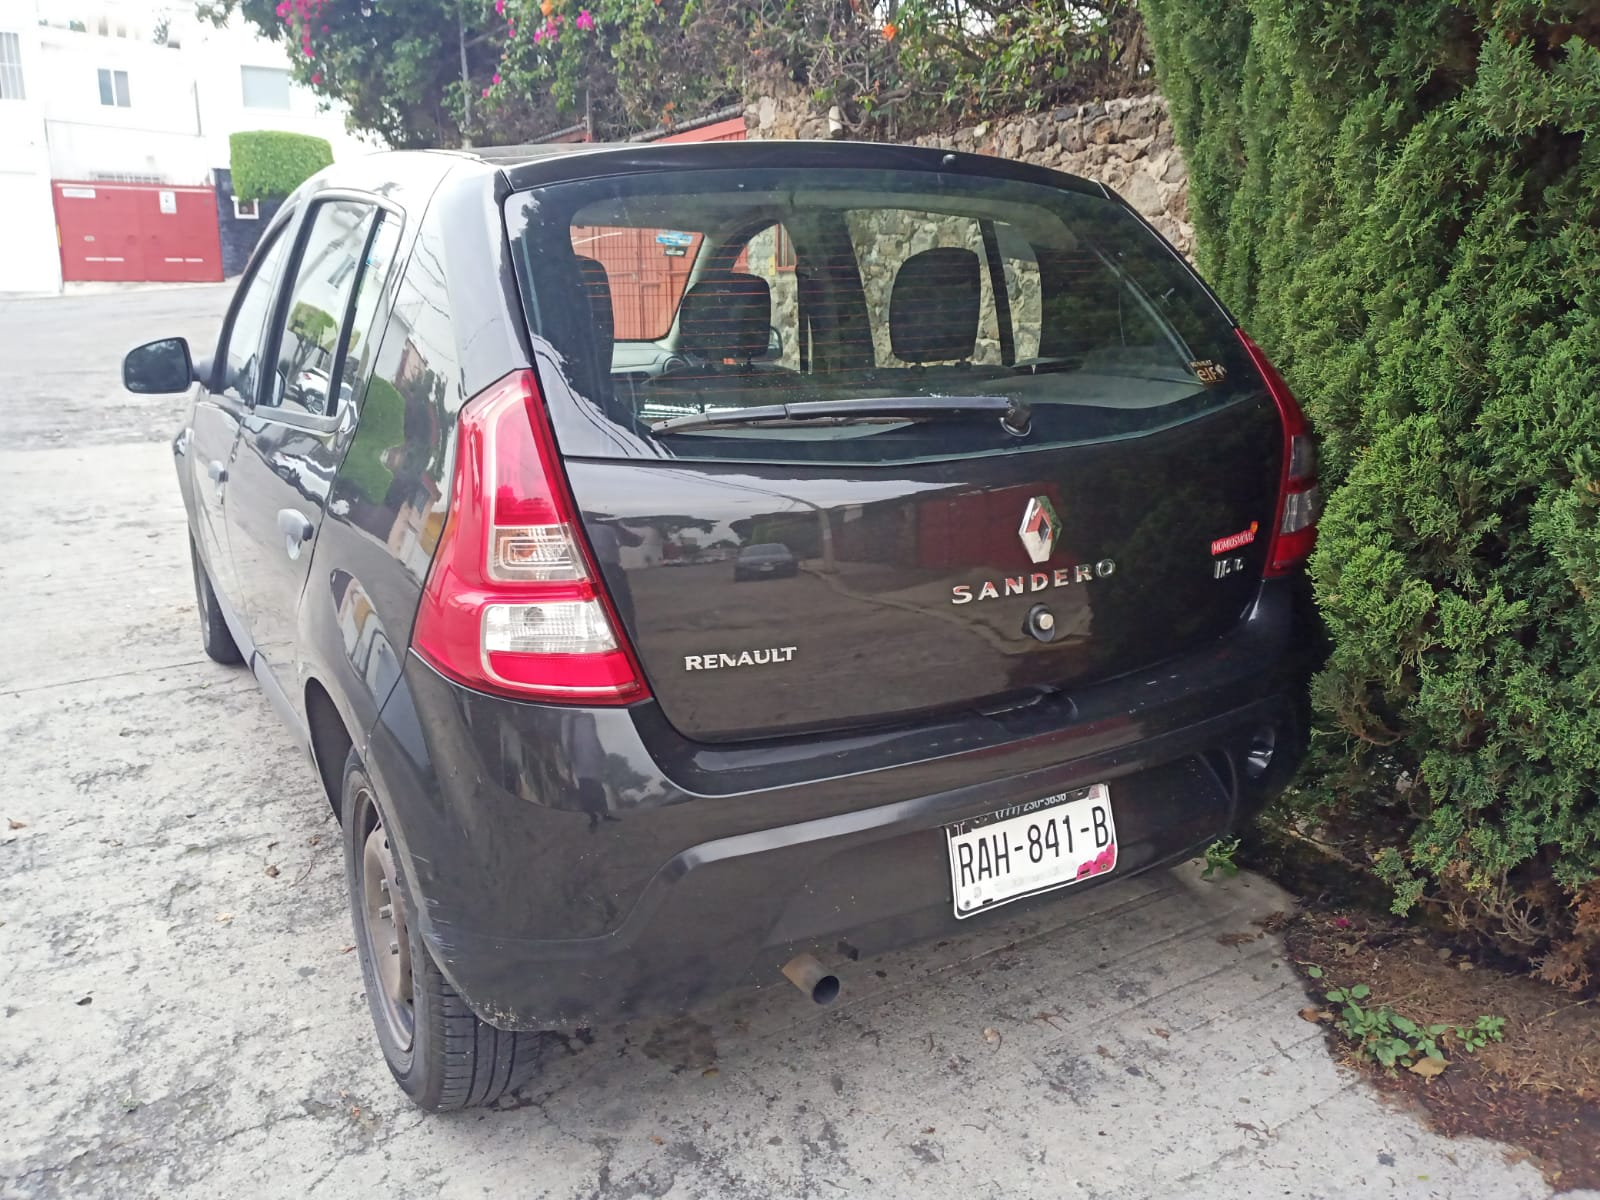Auto: (112, 137, 1338, 1116)
